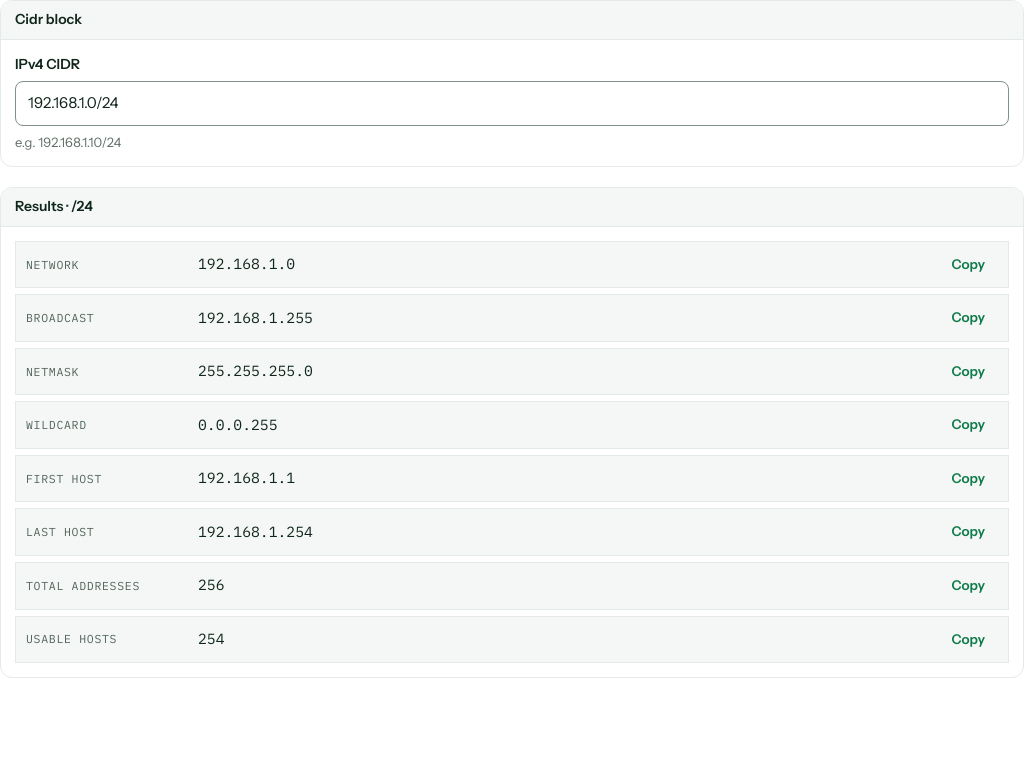
CidrCalculator › errors on an octet over 255
Step 1. Replace the text in the field with placeholder "192.168.1.10/24" with "300.1.1.1/24" → (512, 104), box [15,81,1009,126]
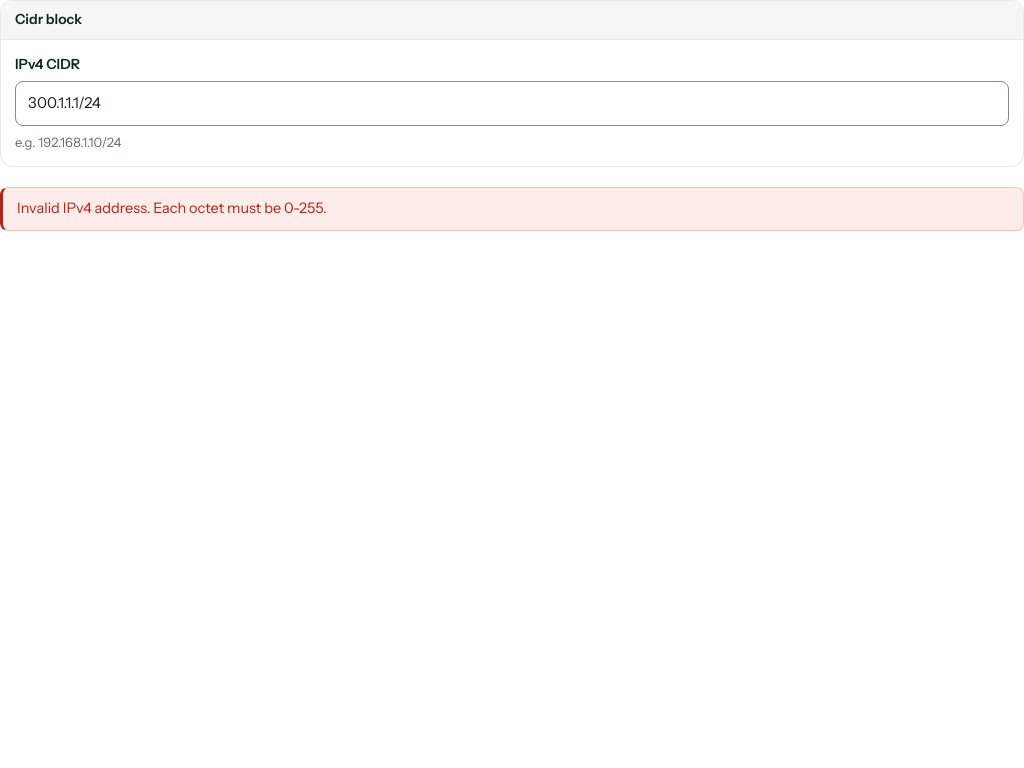
Check: the text "Invalid IPv4 address. Each octet must be 0-255." is shown, box [0,187,1023,231]
